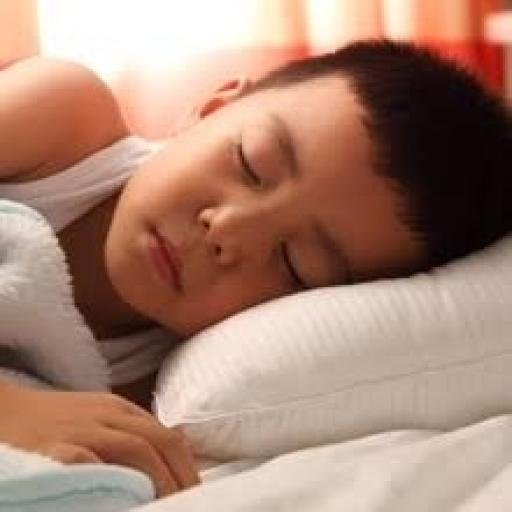sleeping: (0, 33, 510, 501)
